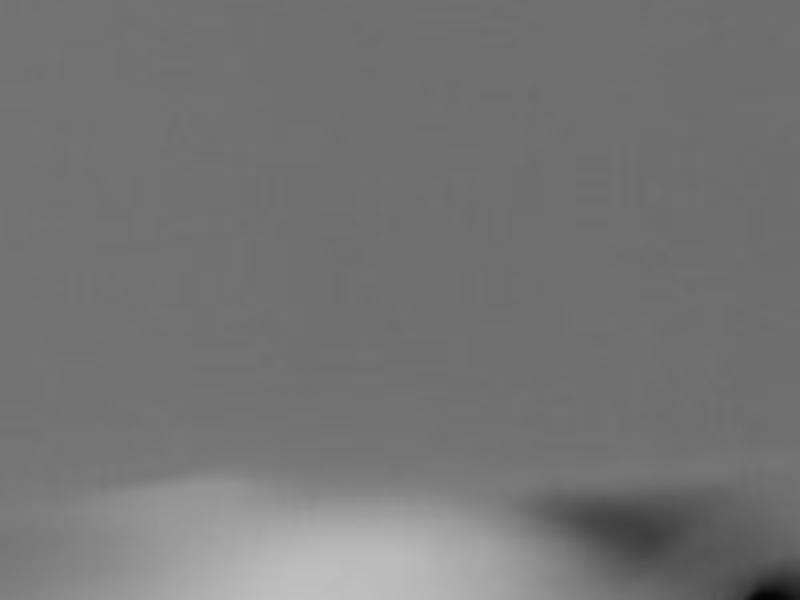defect: (744, 564, 800, 598)
